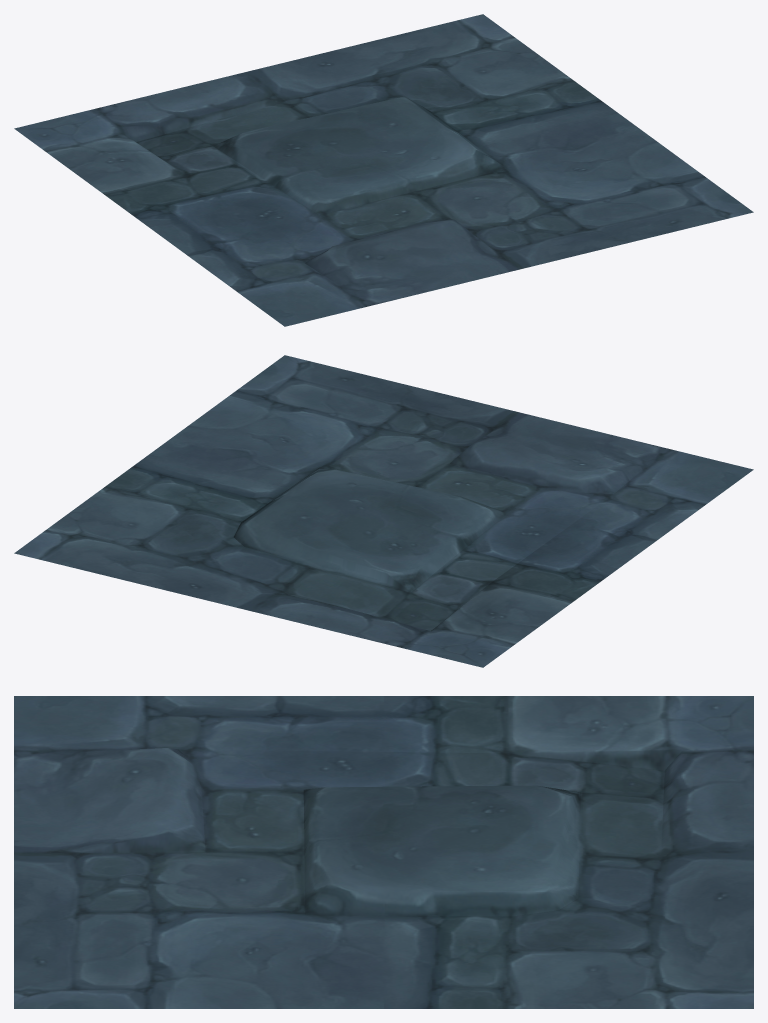
File: tile_01.fbx
3 views of the same model, one above another, from view 1: azimuth 30°, elevation 25°; view 2: azimuth 150°, elevation 25°; view 3: azimuth 270°, elevation 25° (orthographic). The views are drawn at different scales.
Parts seen in each view (by area): view 1: tile_01; view 2: tile_01; view 3: tile_01.
Part boxes in pixels (bbox=[...]): tile_01: bbox=[14, 14, 753, 326]; tile_01: bbox=[14, 355, 753, 667]; tile_01: bbox=[14, 696, 753, 1008].
Size of the model in its own units: 200 by 8.86 by 200.
